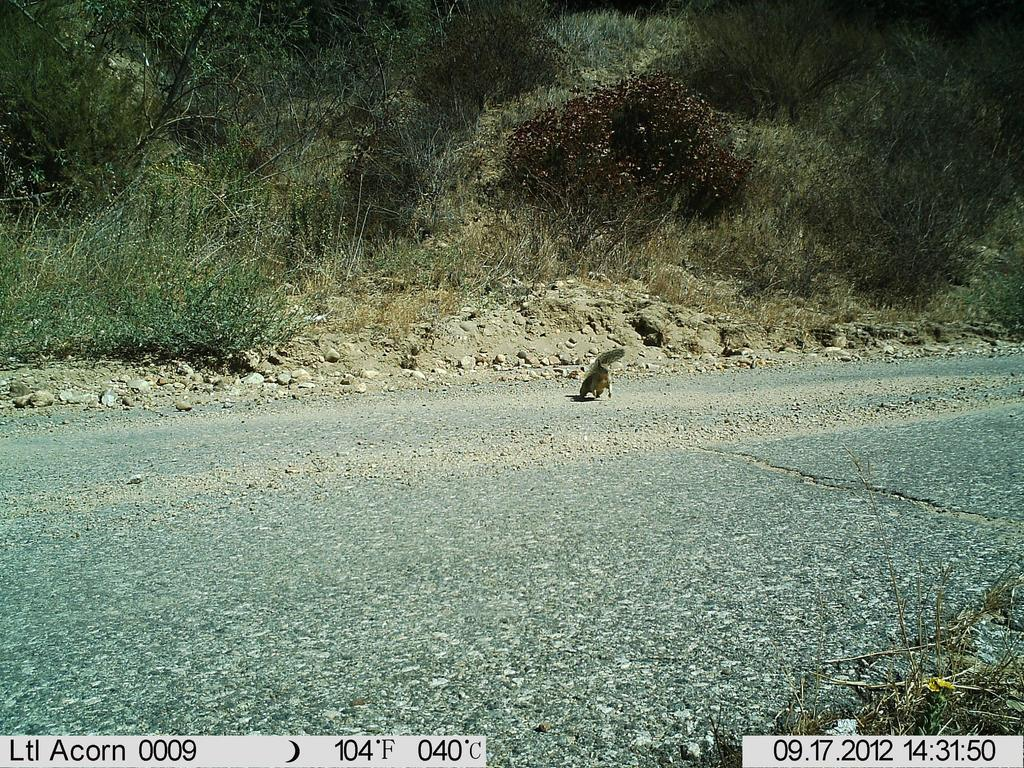squirrel: (571, 345, 630, 405)
